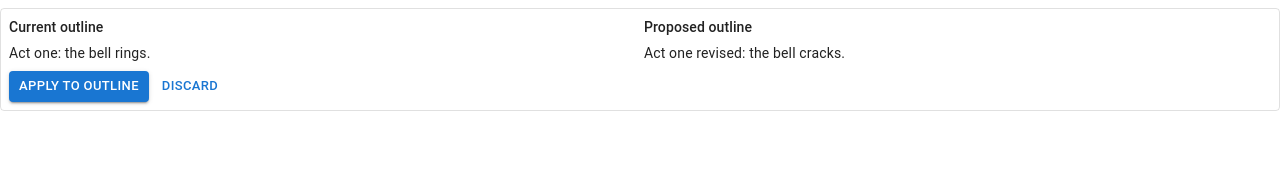
Scenario: OutlineRevision › a discard that could not be remembered keeps the proposal and shows a reference
Step 1. Click the button "Discard" → click(190, 86), box [157,71,223,102]
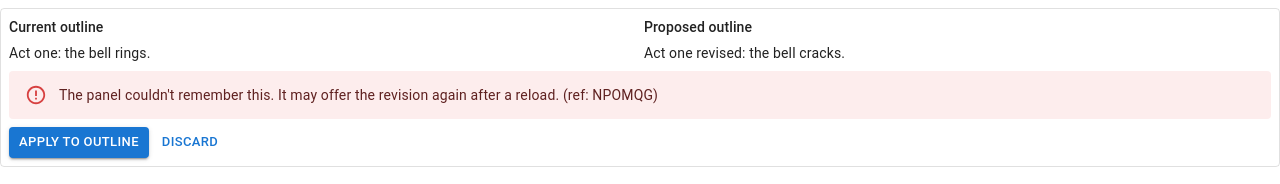
Expected: the text "couldn't remember" is shown, [59,87,658,103]
